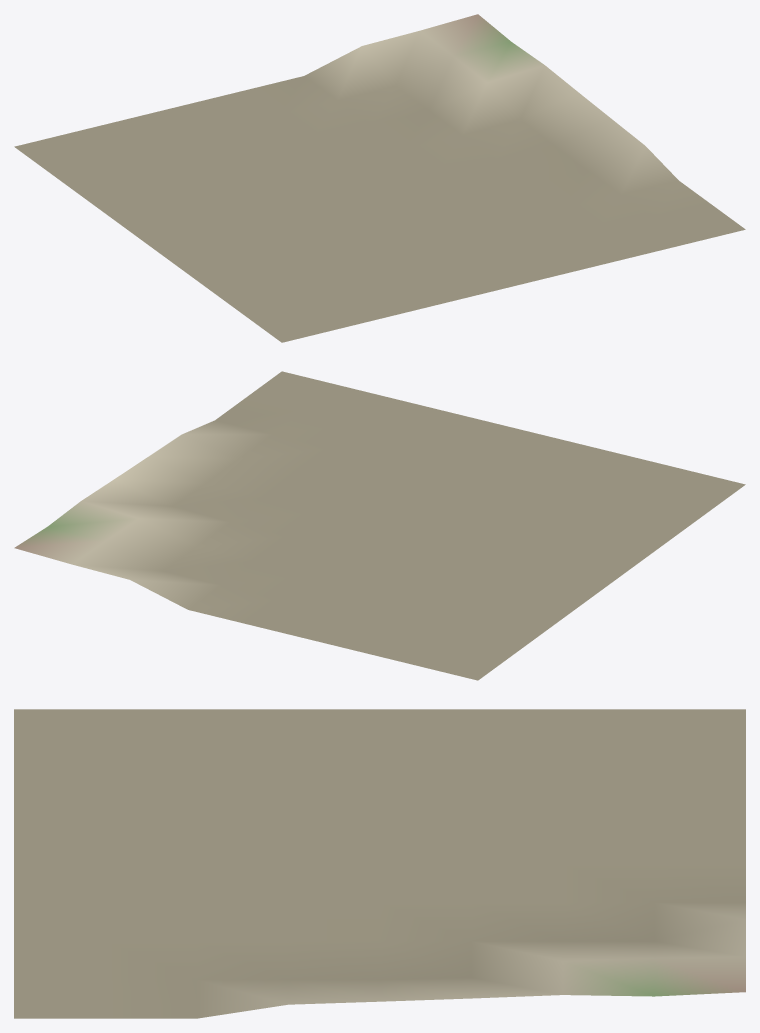
3 renders of one model, top to bottom at view 1: azimuth 30°, elevation 25°; view 2: azimuth 150°, elevation 25°; view 3: azimuth 270°, elevation 25°, orthographic. The views are drawn at different scales.
Visible parts, largest first — view 1: Lo; view 2: Lo; view 3: Lo.
Part boxes in pixels (<box>): Lo: <box>14,14,745,342</box>; Lo: <box>14,371,745,680</box>; Lo: <box>14,709,745,1018</box>.
Size of the model in its own units: 256 by 10.23 by 256.
